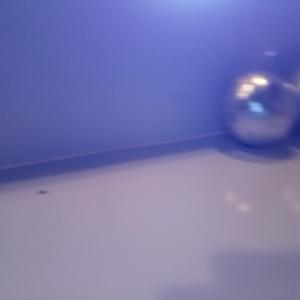alive_ball: (221, 69, 295, 146)
